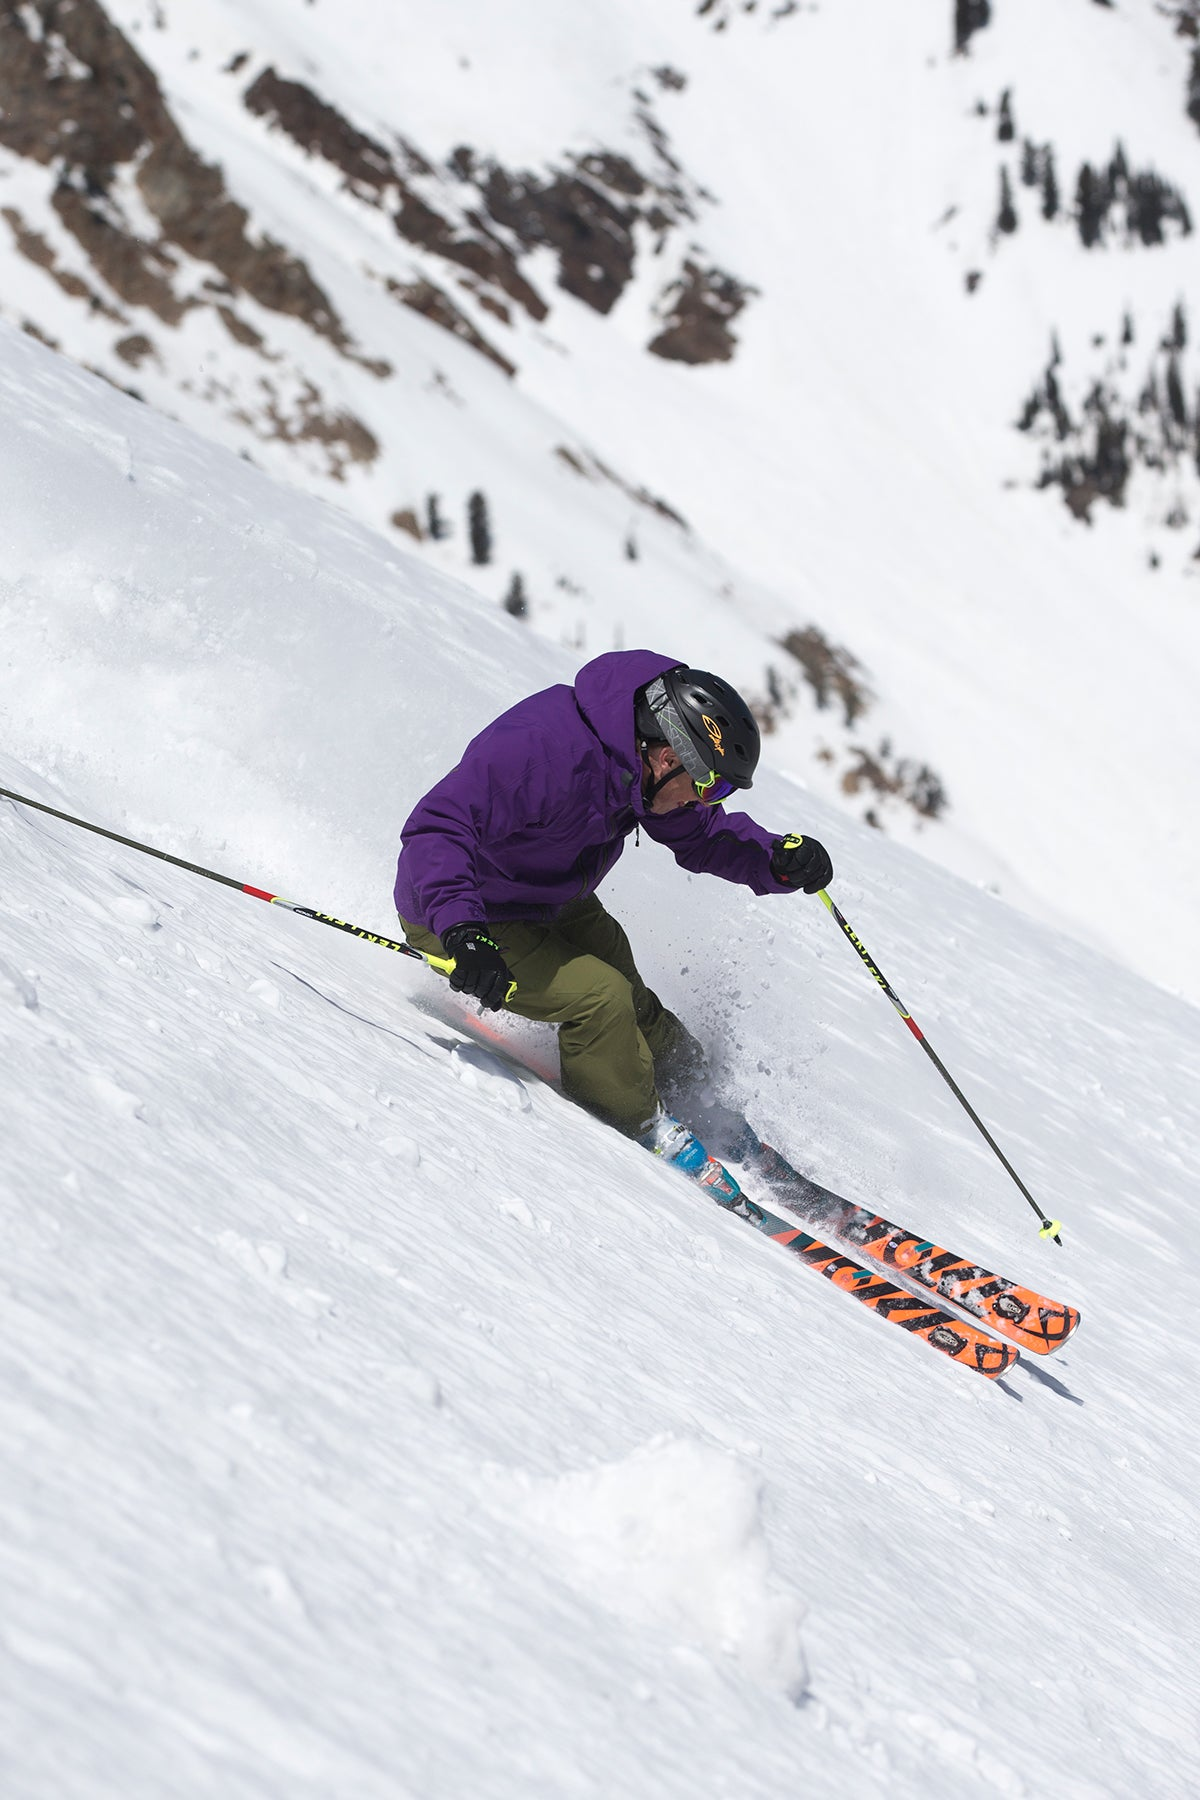skier: (0, 636, 1106, 1414)
